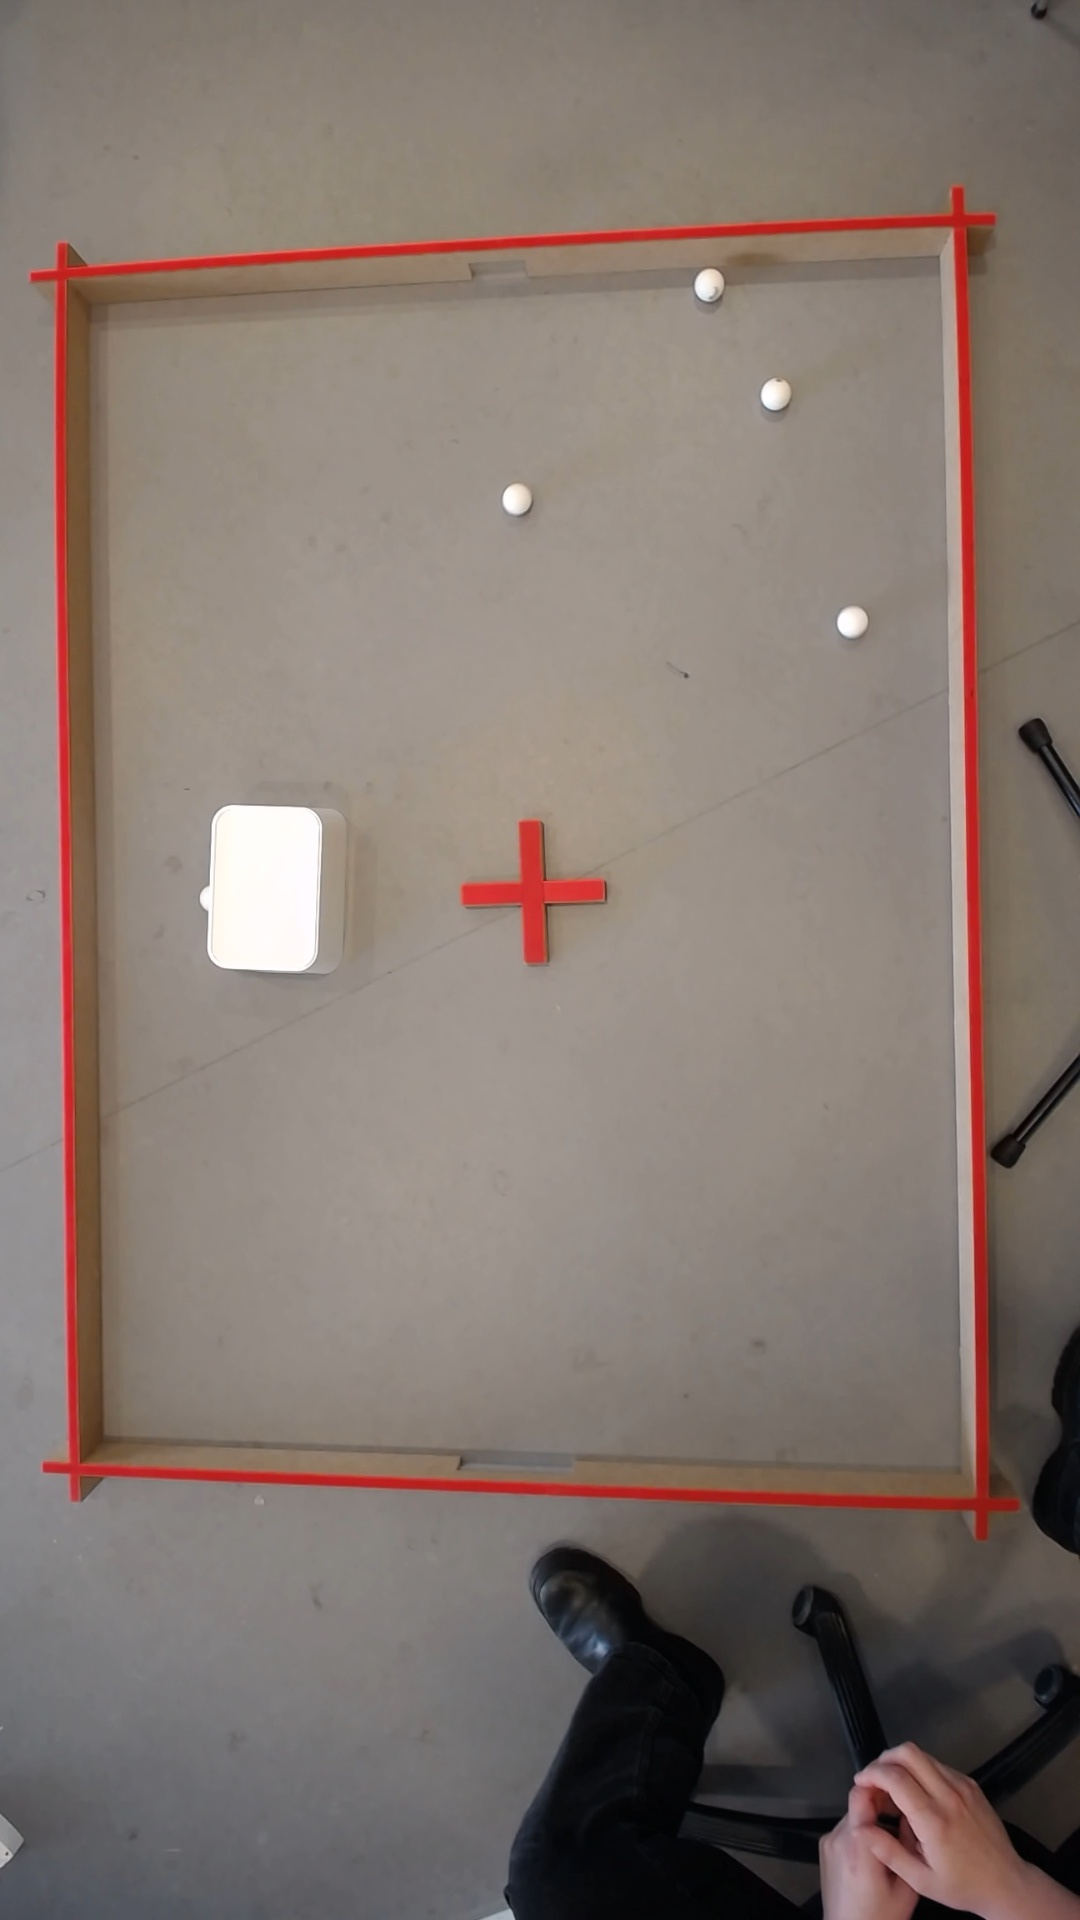balls: (195, 802, 323, 972), (687, 265, 724, 301), (831, 603, 866, 638), (496, 480, 530, 516)
car: (756, 375, 787, 410)
